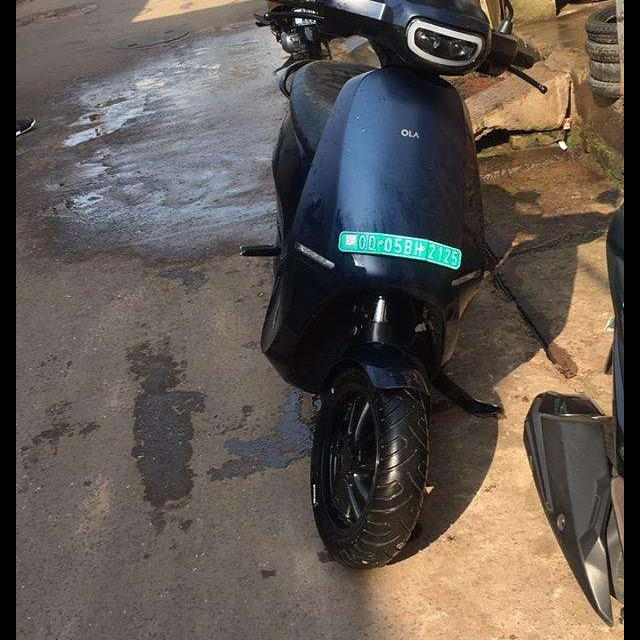Indian_Number_Plate: (338, 231, 463, 269)
